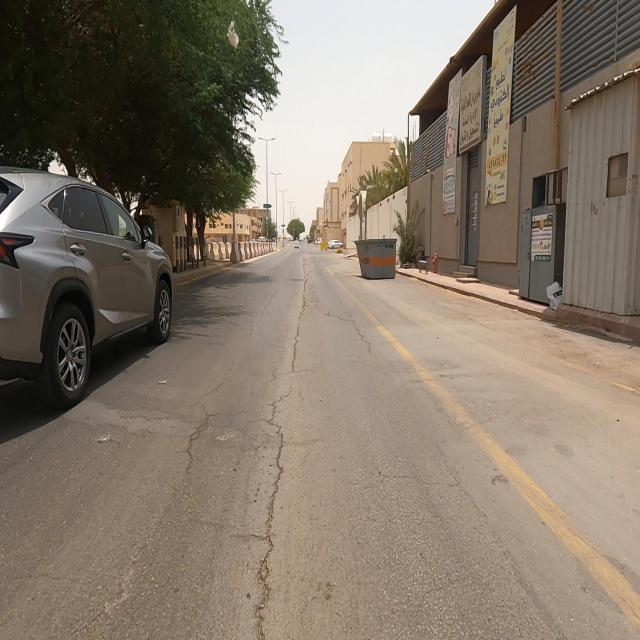debris: (518, 248, 578, 342)
